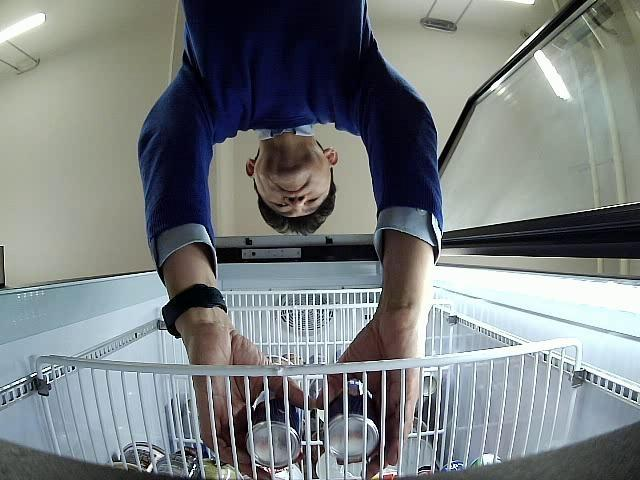16_hot6: (246, 388, 301, 466), (329, 380, 379, 462)
